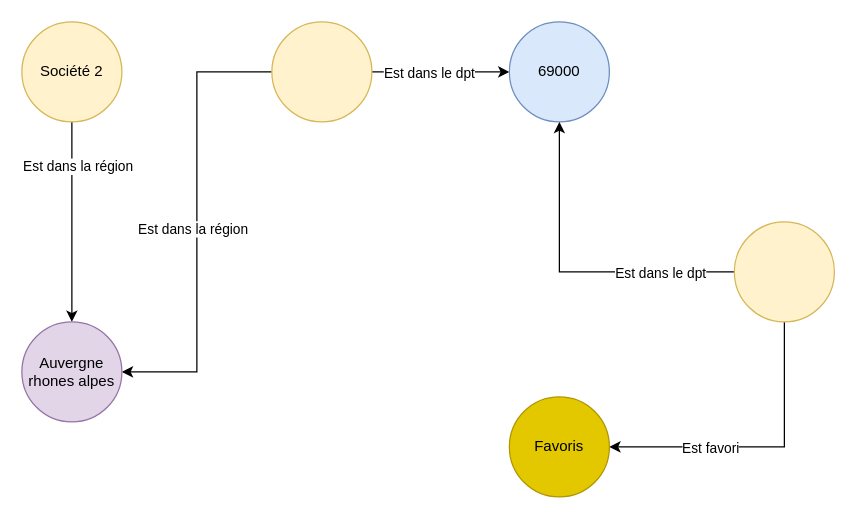
Image size: 856x519. Some labels were removed from this diagram. The centre of each missing label's shape, as x and y in pixels:
"Société 1" goes at (321,71).
"Société 3" goes at (783,271).
